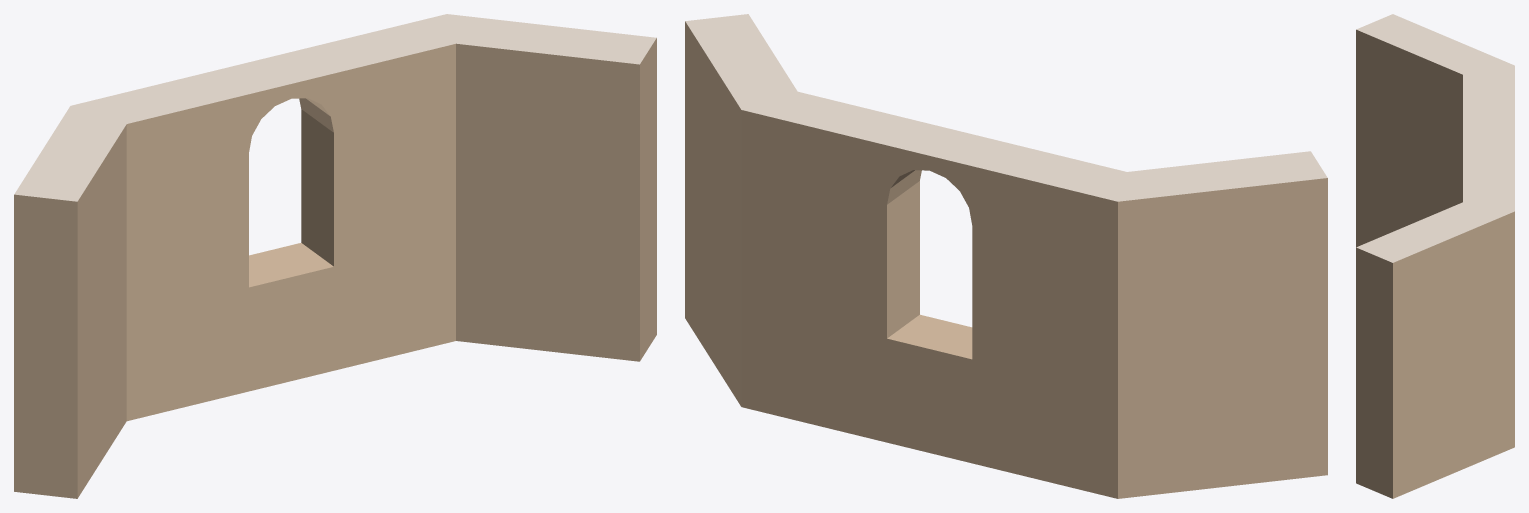
File: Tower_Wall_Normal_Window.obj
The picture shows the model from 3 angles, left to right: view 1: azimuth 30°, elevation 25°; view 2: azimuth 150°, elevation 25°; view 3: azimuth 270°, elevation 25°; orthographic projection. The views are drawn at different scales.
Parts seen in each view (by area): view 1: object1; view 2: object1; view 3: object1.
Boxes of the visible parts, x1=… form: object1: x1=14, y1=14, x2=656, y2=498; object1: x1=685, y1=14, x2=1327, y2=498; object1: x1=1356, y1=14, x2=1514, y2=498.
Bounding box in the file's own units: 2.26 × 1 × 0.6101.
